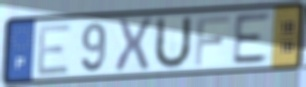9: (80, 21, 107, 73)
E: (231, 11, 274, 67), (34, 21, 73, 78)
F: (193, 14, 231, 68)
U: (151, 13, 194, 72)
X: (113, 16, 154, 75)
